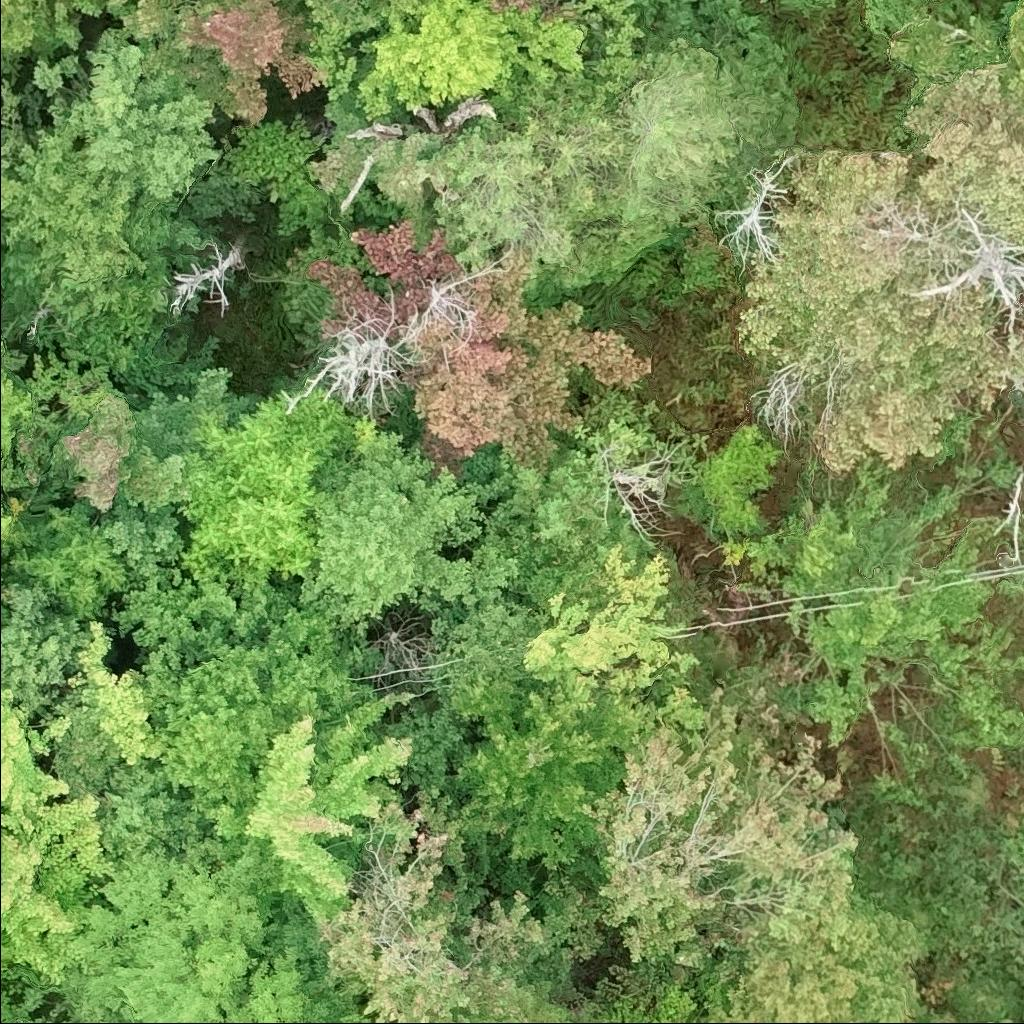crown: (738, 63, 1023, 478), (580, 680, 866, 974), (117, 574, 383, 840), (397, 243, 655, 477), (55, 836, 353, 1023), (296, 431, 522, 635), (448, 668, 661, 876), (319, 831, 544, 1023), (241, 690, 418, 924), (2, 363, 261, 513), (178, 388, 358, 597), (0, 682, 120, 984), (27, 22, 225, 203), (701, 894, 933, 1023), (350, 0, 586, 126), (599, 36, 743, 229), (487, 444, 646, 593), (36, 617, 163, 802), (434, 122, 581, 280), (148, 0, 327, 119), (307, 218, 466, 332), (889, 0, 1023, 131), (2, 504, 132, 631), (673, 421, 789, 534), (0, 576, 90, 719), (521, 113, 631, 220), (564, 383, 677, 482), (0, 367, 35, 586), (105, 0, 190, 48), (0, 0, 50, 68), (615, 996, 726, 1023), (427, 1011, 519, 1023), (632, 0, 705, 12), (486, 0, 535, 9), (0, 330, 8, 369)
